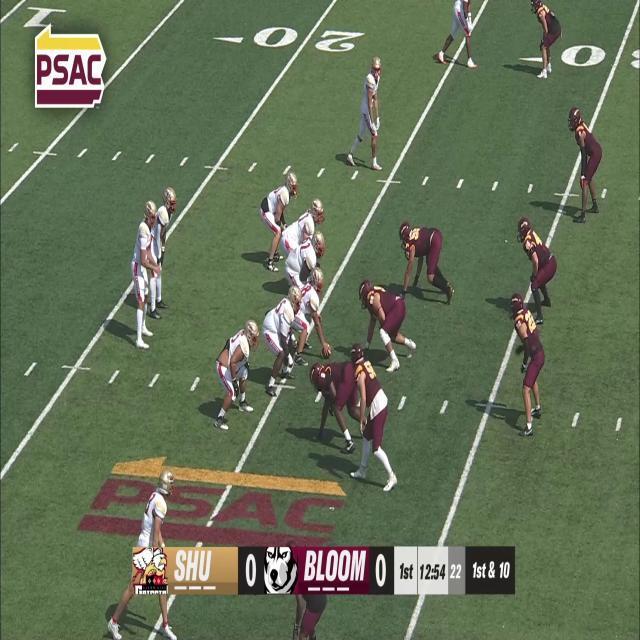football: (319, 344, 332, 359)
